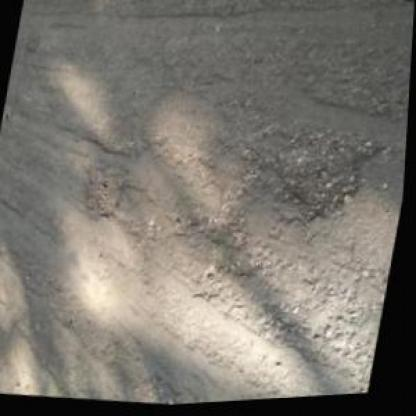pothole: (272, 119, 384, 235), (79, 162, 132, 222), (24, 29, 42, 56)
